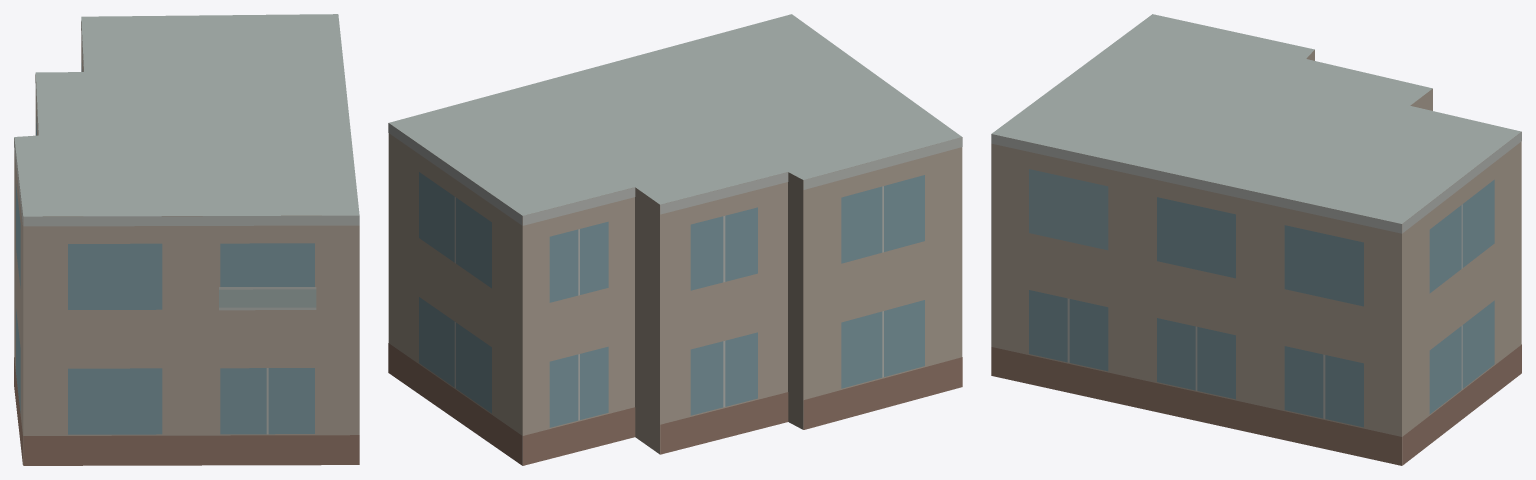
Rendered from survey-upis-32828197.glb.
3 renders of one model, left to right at view 1: azimuth 30°, elevation 25°; view 2: azimuth 150°, elevation 25°; view 3: azimuth 270°, elevation 25°, orthographic. The views are drawn at different scales.
Parts seen in each view (by area): view 1: survey-upis-32828197.tmp; view 2: survey-upis-32828197.tmp; view 3: survey-upis-32828197.tmp.
Boxes of the visible parts, left/top/right/bottom form: survey-upis-32828197.tmp: left=14, top=14, right=359, bottom=465; survey-upis-32828197.tmp: left=388, top=14, right=962, bottom=465; survey-upis-32828197.tmp: left=991, top=14, right=1521, bottom=465.
Size of the model in its own units: 11.37 by 6.1 by 12.14.
